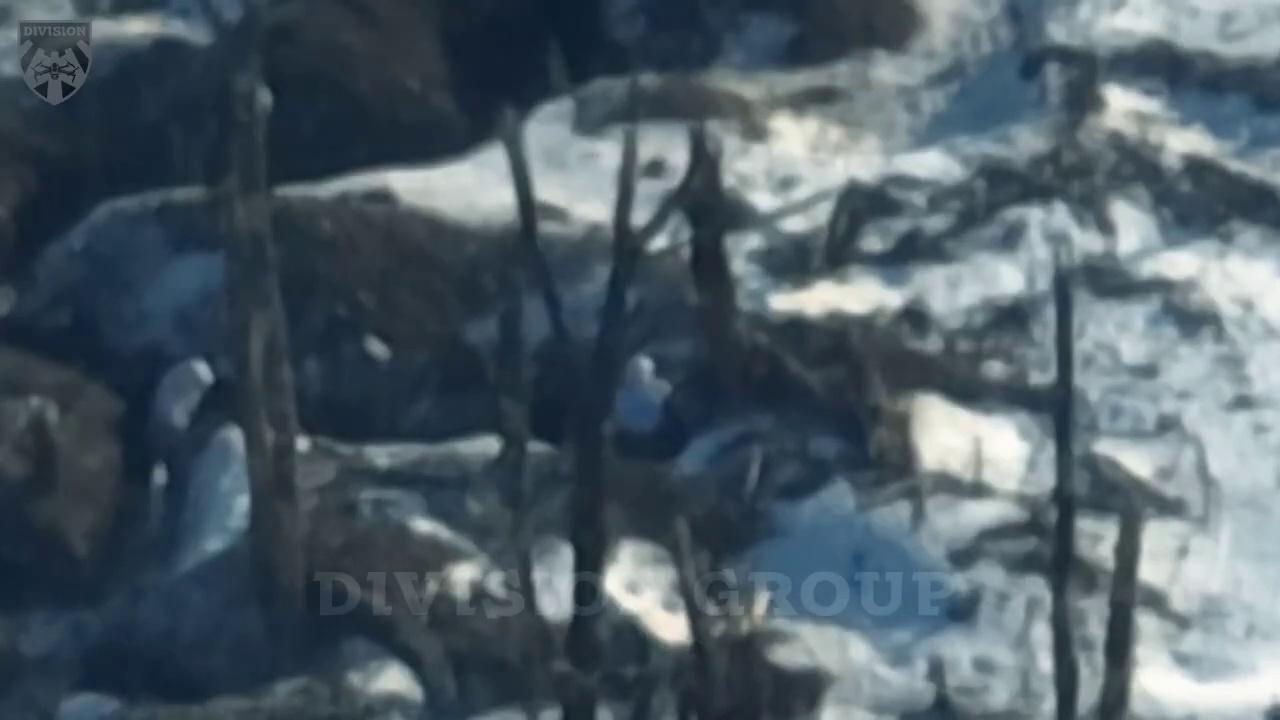person: (144, 354, 224, 510), (605, 358, 686, 454)
